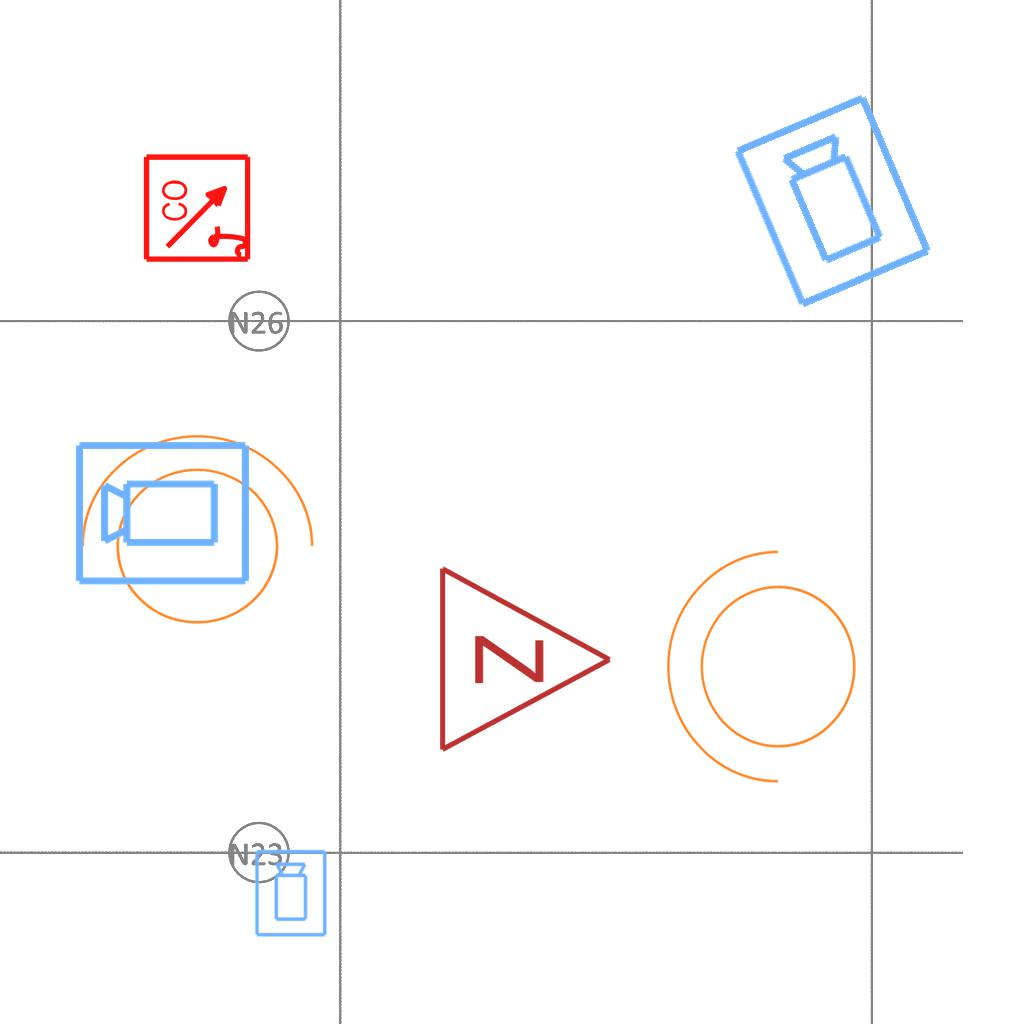KFO_Kamera_mit_Festobjektiv: (727, 87, 941, 315), (72, 435, 254, 589), (253, 848, 330, 939)
ROA_Rauchmelder_optisch_mit_Signalgeber_(Sockelsirene): (142, 151, 255, 264)
Scheinwerfer_fuer_Alarmbeleuchtung: (656, 541, 881, 805), (59, 424, 323, 649)
Zimmersignalleuchte: (425, 559, 625, 755)
